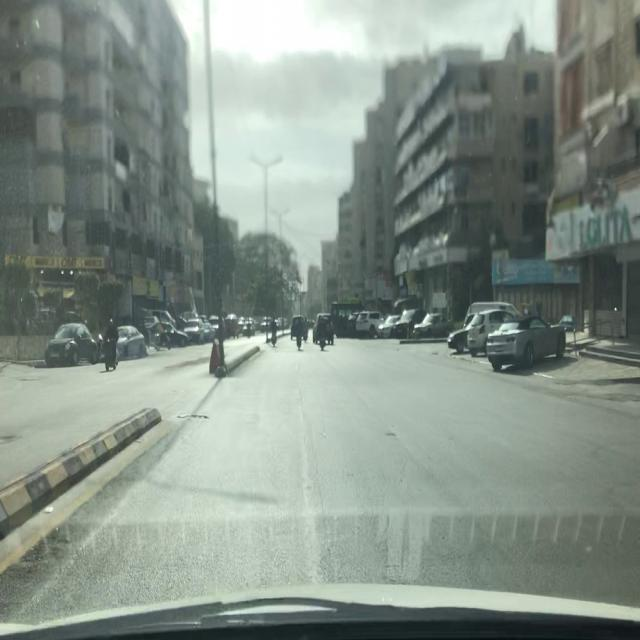Pothole: (176, 408, 209, 424)
